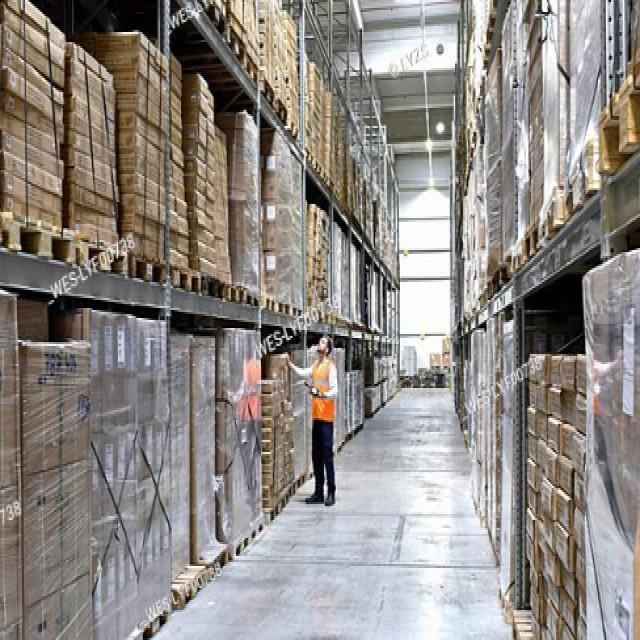shoes: (304, 486, 339, 508)
vest: (310, 356, 336, 426)
